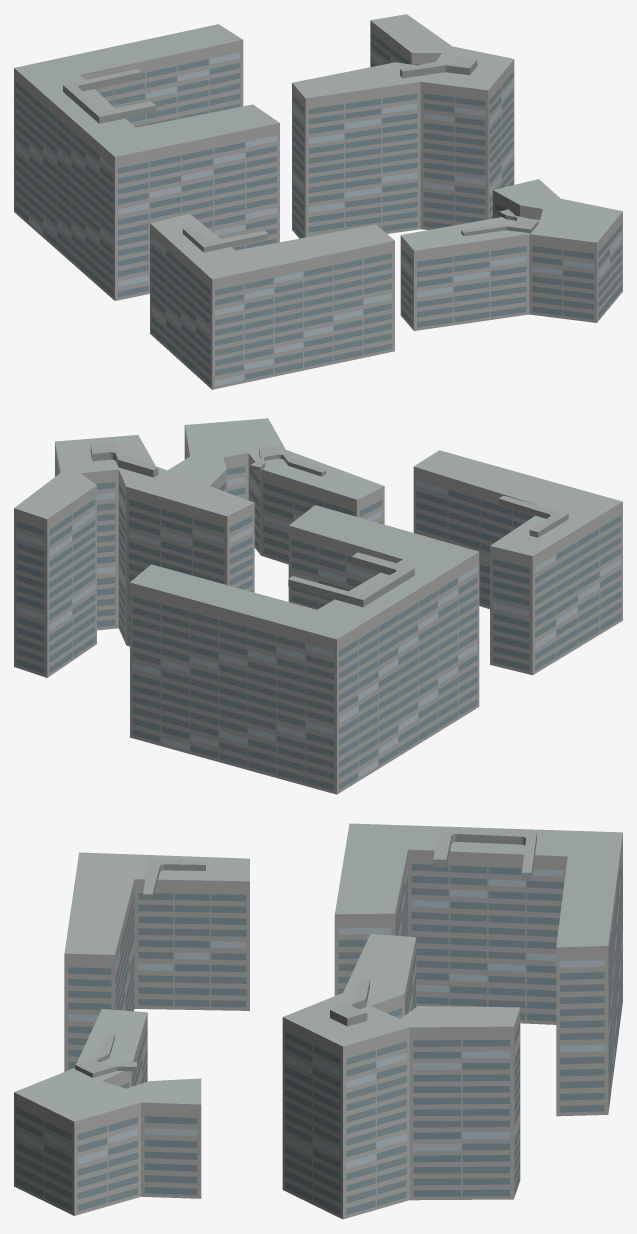
File: apt-a15721011.glb
3 renders of one model, top to bottom at view 1: azimuth 30°, elevation 25°; view 2: azimuth 150°, elevation 25°; view 3: azimuth 270°, elevation 25°, orthographic. The views are drawn at different scales.
Visible parts, largest first — view 1: apt-a15721011; view 2: apt-a15721011; view 3: apt-a15721011.
Boxes of the visible parts, <box> form: apt-a15721011: <box>14,14,622,389</box>; apt-a15721011: <box>14,418,622,794</box>; apt-a15721011: <box>14,823,622,1219</box>.
Bounding box in the file's own units: 124 × 44 × 134.
